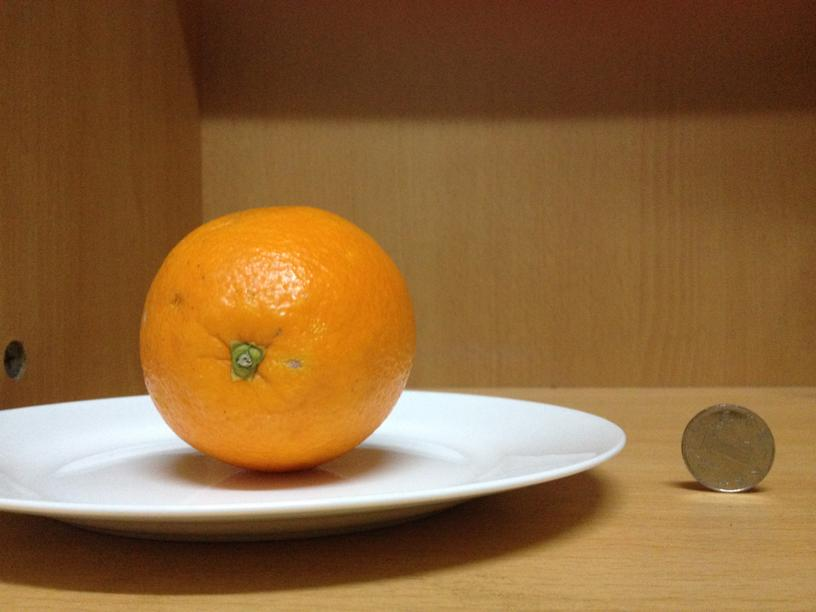coin: (679, 404, 777, 491)
orange: (138, 202, 414, 470)
